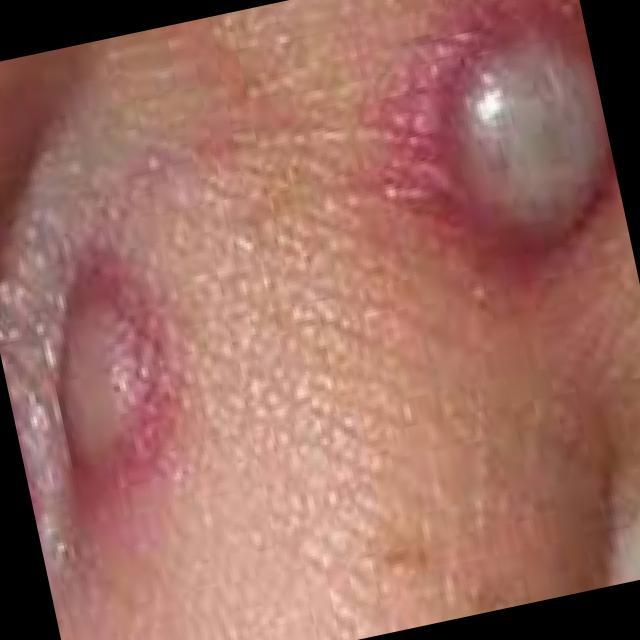Eczema: (435, 18, 630, 248), (46, 259, 203, 479)
